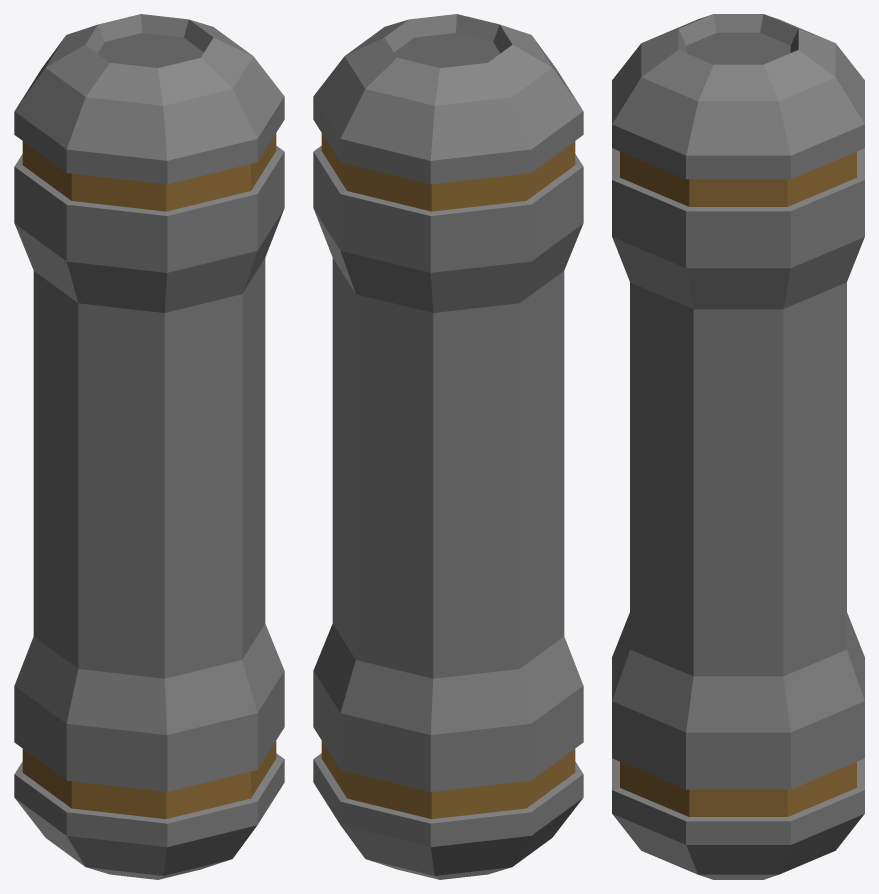
File: vessel_tall.glb
3 renders of one model, left to right at view 1: azimuth 30°, elevation 25°; view 2: azimuth 150°, elevation 25°; view 3: azimuth 270°, elevation 25°, orthographic.
Parts seen in each view (by area): view 1: vessel_tall; view 2: vessel_tall; view 3: vessel_tall.
Boxes of the visible parts, x1,y1,x2,y2 form: vessel_tall: (14, 14, 284, 879); vessel_tall: (313, 14, 583, 879); vessel_tall: (612, 14, 864, 879).
Size of the model in its own units: 0.7304 by 2.6 by 0.7304.
